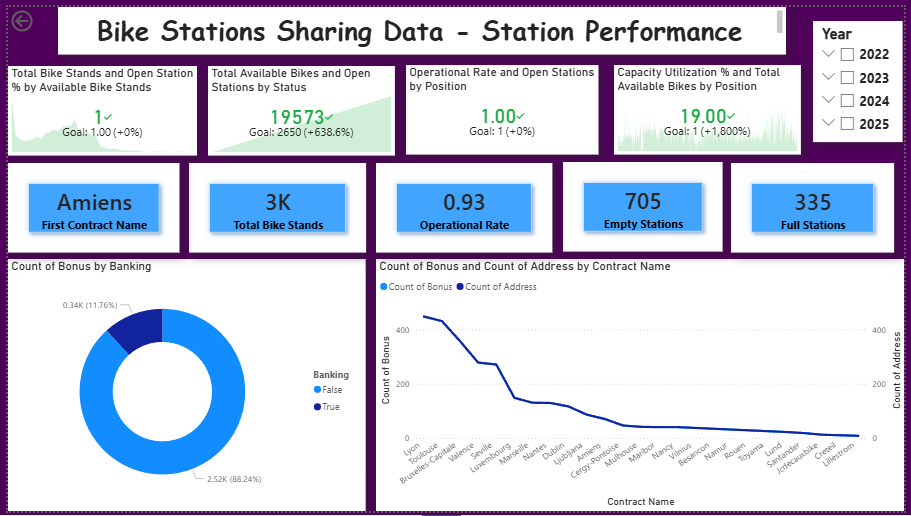

The dashboard page shown, as its layout file describes it:
{"tool":"powerbi","page":{"name":"Station Performance","canvas":[1280,720],"ordinal":1},"visuals":[{"type":"actionButton","box":[0,0,100,40],"z":0},{"type":"kpi","fields":{"Indicator":["Feuil1.Total Bike Stands"],"TrendLine":["Feuil1.Available Bike Stands"],"Goal":["Feuil1.Open Station %"]},"box":[0,85,270,128.3],"z":1000},{"type":"donutChart","fields":{"Category":["Feuil1.Banking"],"Y":["CountNonNull(Feuil1.Bonus)"]},"box":[0,360,511.1,360],"z":2000},{"type":"kpi","fields":{"Indicator":["Feuil1.Operational Rate"],"TrendLine":["Feuil1.Position"],"Goal":["Feuil1.Open Stations"]},"box":[568.3,83.3,275,128.3],"z":3000},{"type":"lineChart","fields":{"Category":["Feuil1.Contract Name"],"Y":["CountNonNull(Feuil1.Bonus)"],"Y2":["CountNonNull(Feuil1.Address)"]},"box":[525.2,360,755.3,360],"z":4000},{"type":"kpi","fields":{"Indicator":["Feuil1.Total Available Bikes"],"TrendLine":["Feuil1.Status"],"Goal":["Feuil1.Open Stations"]},"box":[285,85,266.7,128.3],"z":5000},{"type":"kpi","fields":{"Goal":["Feuil1.Total Available Bikes"],"Indicator":["Feuil1.Capacity Utilization %"],"TrendLine":["Feuil1.Position"]},"box":[865,83.3,266.7,128.3],"z":6000},{"type":"slicer","fields":{"Values":["Feuil1.Last Update.Variation.Date Hierarchy.Year","Feuil1.Last Update.Variation.Date Hierarchy.Quarter","Feuil1.Last Update.Variation.Date Hierarchy.Month","Feuil1.Last Update.Variation.Date Hierarchy.Day"]},"box":[1150,20,128.3,173.3],"z":7000},{"type":"cardVisual","fields":{"Data":["Feuil1.Total Bike Stands"]},"box":[258.3,223.3,253.3,128.3],"z":8000},{"type":"cardVisual","fields":{"Data":["Min(Feuil1.Contract Name)"]},"box":[0,223.3,245,128.3],"z":9000},{"type":"cardVisual","fields":{"Data":["Feuil1.Operational Rate"]},"box":[525,223.3,251.7,128.3],"z":10000},{"type":"cardVisual","fields":{"Data":["Feuil1.Empty Stations"]},"box":[793.3,221.7,228.3,128.3],"z":11000},{"type":"cardVisual","fields":{"Data":["Feuil1.Full Stations"]},"box":[1033.3,223.3,233.3,128.3],"z":12000},{"type":"textbox","box":[71.7,0,1040,68.3],"z":13000}]}

Visuals, with their boxes in screenshot pixels (x1, y1, x2, y2), scaled from the page's 1280x720 canvas onto the 911x516 screenshot:
actionButton: region(0, 0, 71, 29)
kpi - Feuil1.Total Bike Stands x Feuil1.Available Bike Stands: region(0, 61, 192, 153)
donutChart - Feuil1.Banking x CountNonNull(Feuil1.Bonus): region(0, 258, 364, 515)
kpi - Feuil1.Operational Rate x Feuil1.Position: region(404, 60, 600, 152)
lineChart - Feuil1.Contract Name x CountNonNull(Feuil1.Bonus): region(374, 258, 910, 515)
kpi - Feuil1.Total Available Bikes x Feuil1.Status: region(203, 61, 393, 153)
kpi - Feuil1.Total Available Bikes x Feuil1.Capacity Utilization %: region(616, 60, 805, 152)
slicer - Feuil1.Last Update.Variation.Date Hierarchy.Year x Feuil1.Last Update.Variation.Date Hierarchy.Quarter: region(818, 14, 910, 139)
cardVisual - Feuil1.Total Bike Stands: region(184, 160, 364, 252)
cardVisual - Min(Feuil1.Contract Name): region(0, 160, 174, 252)
cardVisual - Feuil1.Operational Rate: region(374, 160, 553, 252)
cardVisual - Feuil1.Empty Stations: region(565, 159, 727, 251)
cardVisual - Feuil1.Full Stations: region(735, 160, 901, 252)
textbox: region(51, 0, 791, 49)
